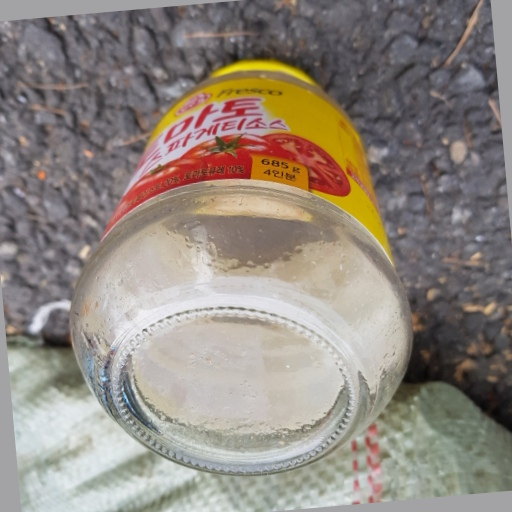Glass_5: (64, 57, 416, 474)
